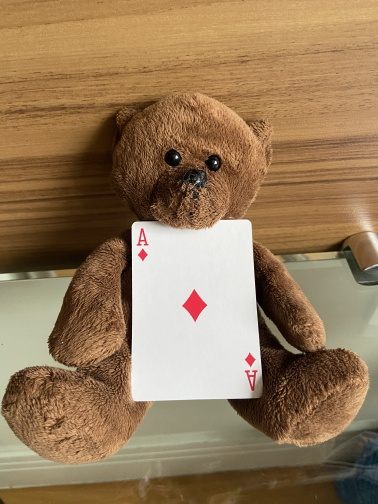ace: (129, 219, 266, 402)
